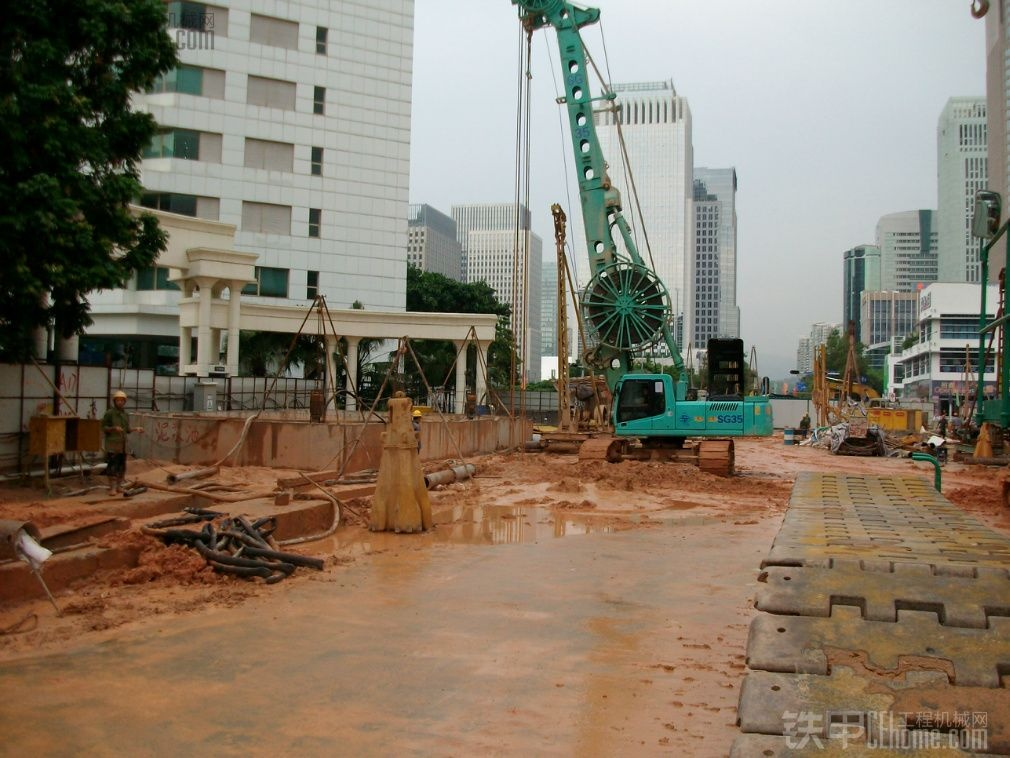yellow: (112, 391, 128, 409), (411, 408, 422, 424)
